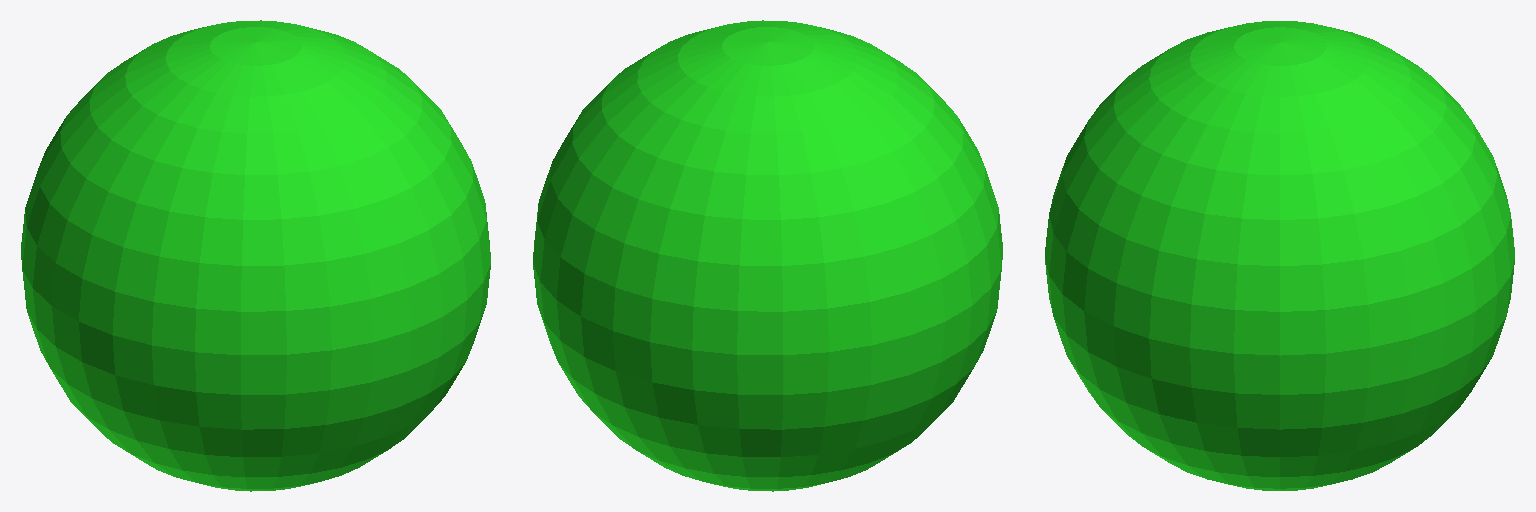
The robot description file, URDF, robot "target_sphere":
<?xml version="1.0" ?>
<!-- Target sphere visual marker (used to show reach target in PyBullet GUI) -->
<robot name="target_sphere">
  <link name="target">
    <visual>
      <geometry><sphere radius="0.02"/></geometry>
      <material name="green_target"><color rgba="0.2 0.9 0.2 0.7"/></material>
    </visual>
    <inertial>
      <mass value="0.001"/>
      <inertia ixx="1e-8" ixy="0" ixz="0" iyy="1e-8" iyz="0" izz="1e-8"/>
    </inertial>
  </link>
</robot>

--- What the picture shows (computed from the rendered views, not written in the file) ---
3 views of the same robot in one strip: view 1: azimuth 30°, elevation 25°; view 2: azimuth 150°, elevation 25°; view 3: azimuth 270°, elevation 25° (orthographic).
Robot: target_sphere — 1 links, 0 joints (none); root link target; default pose: every joint at zero.
Links seen in each view (by area): view 1: target; view 2: target; view 3: target.
Boxes of the visible links, x1,y1,x2,y2 form: target: (21,20,490,491); target: (533,20,1002,491); target: (1045,21,1514,490).
Size in the robot's own frame: 0.04 by 0.04 by 0.04 metres.
Geometry: primitives only (box / cylinder / sphere), no mesh files.
